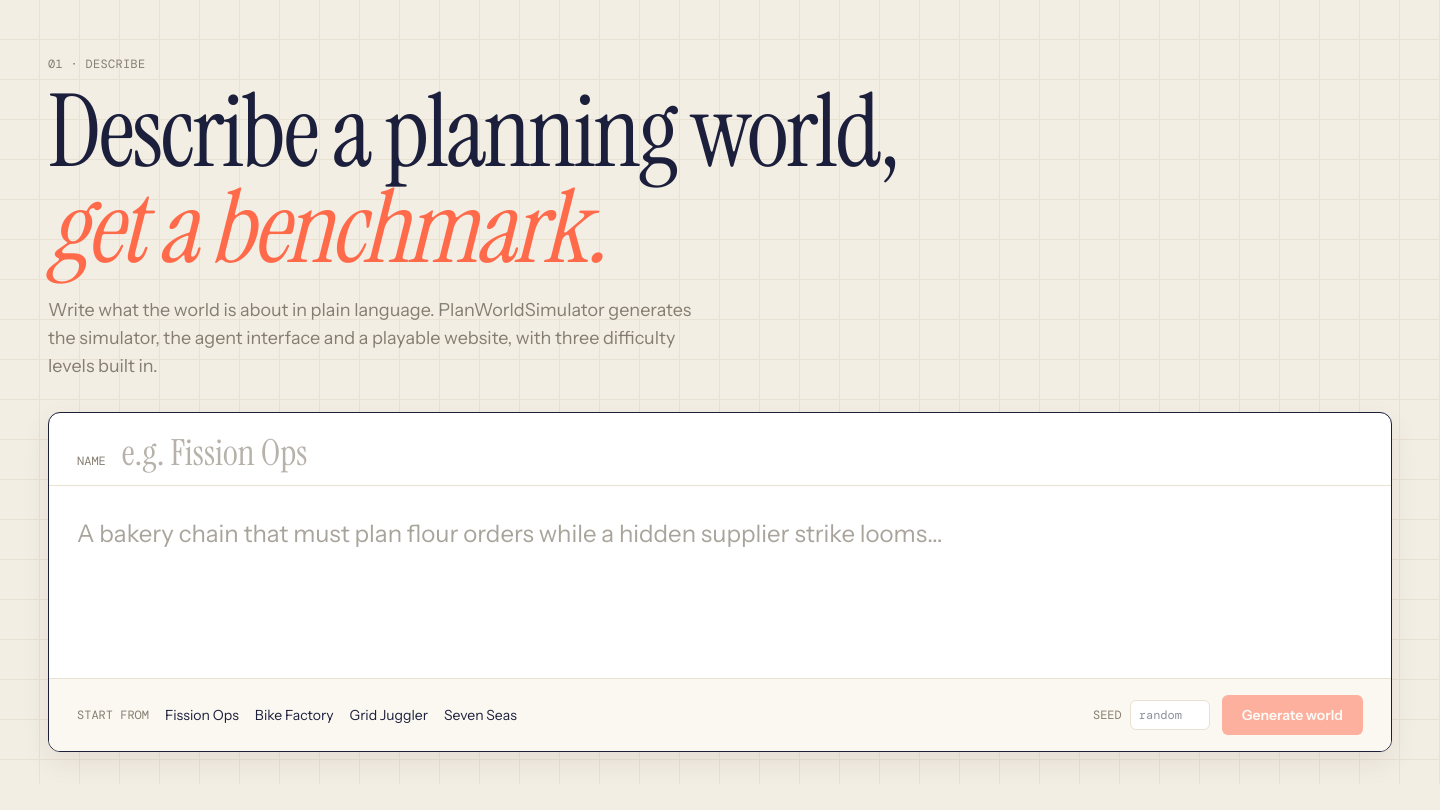
choosing a starting point fills the name and the prompt
Click the button "Fission Ops".
click(202, 714)  # box [165,704,239,724]
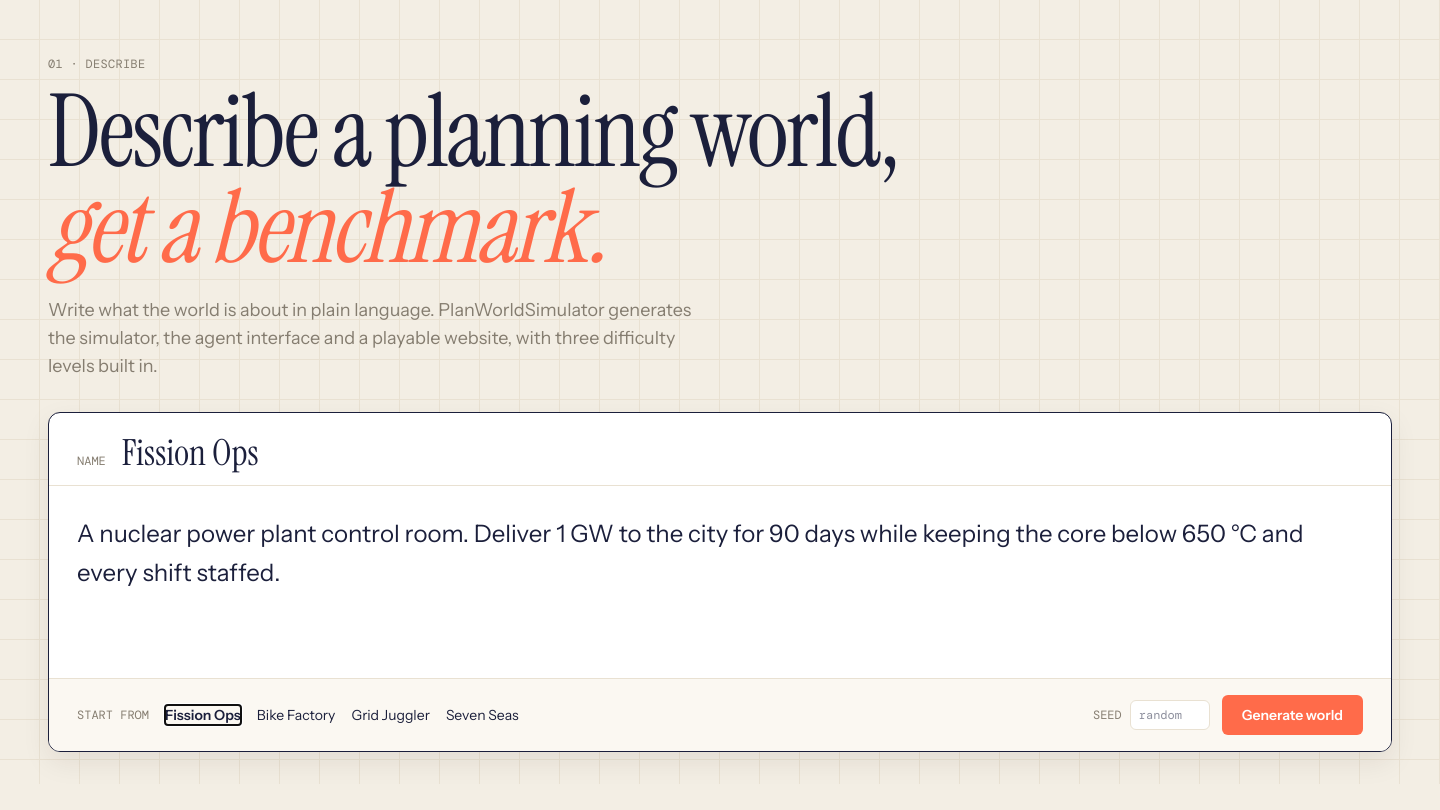
Now the field named "World name" holds "Fission Ops", box [122,432,1363,472]
